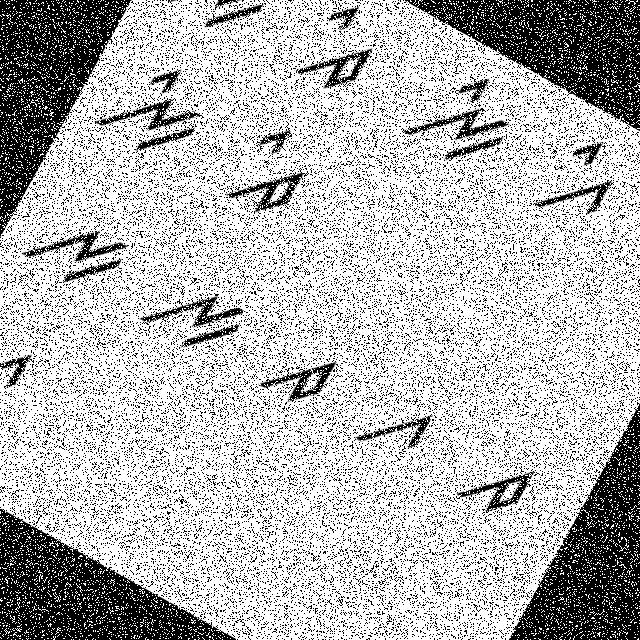ga: (344, 371, 447, 476), (0, 305, 49, 419)
gi: (525, 111, 639, 243)
nga: (128, 250, 264, 378), (12, 186, 141, 310)
ngi: (85, 35, 229, 182), (395, 44, 534, 184), (152, 0, 294, 54)
ta: (436, 426, 554, 548), (251, 322, 346, 424)
ti: (275, 0, 403, 123), (210, 113, 328, 238)
